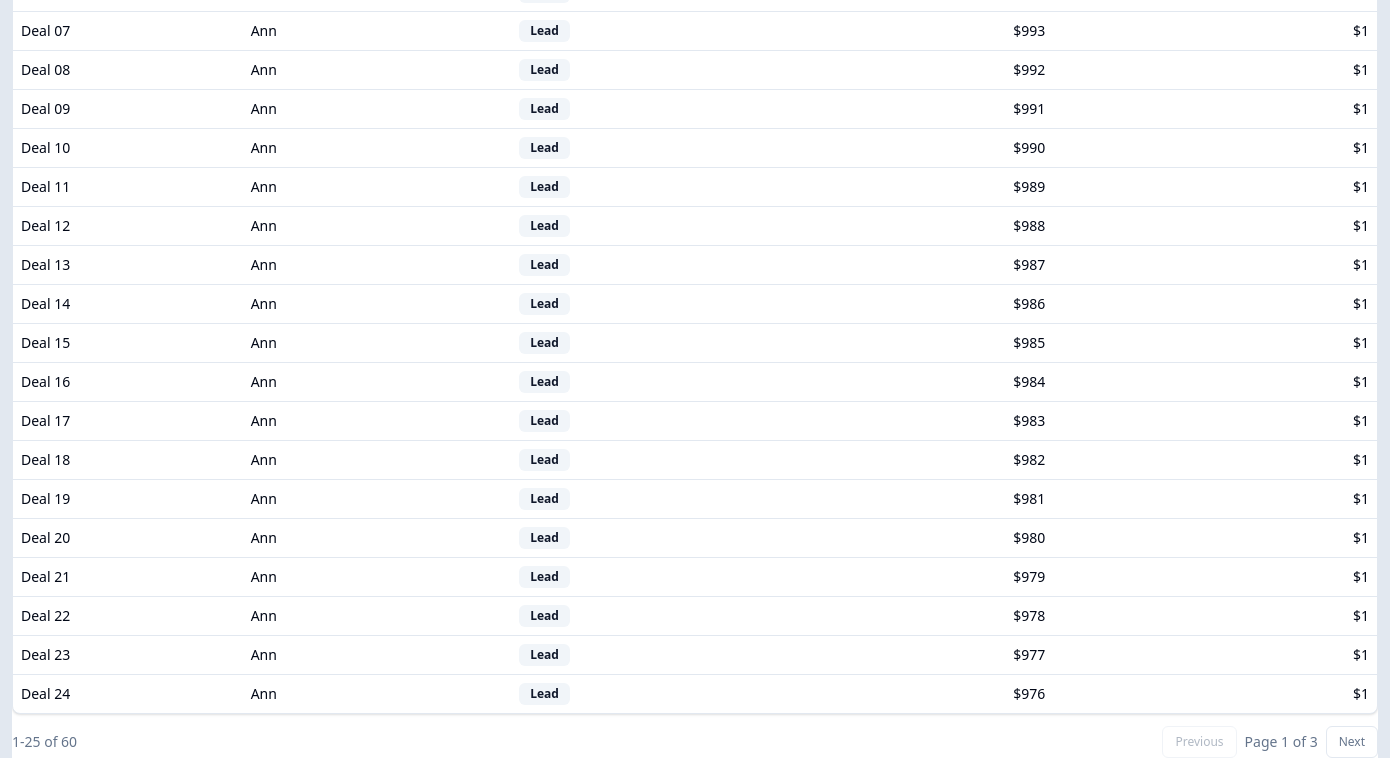
Test: Analyse: open deals › pages through many rows
(page scrolled)
Check: the text "1-25 of 60" is shown, box [12,732,77,752]
What coordinates should you click on to do the following:
click the button "Next"
I would click on:
 (1352, 742)
Its box is [1326,726,1378,757].
(page scrolled)
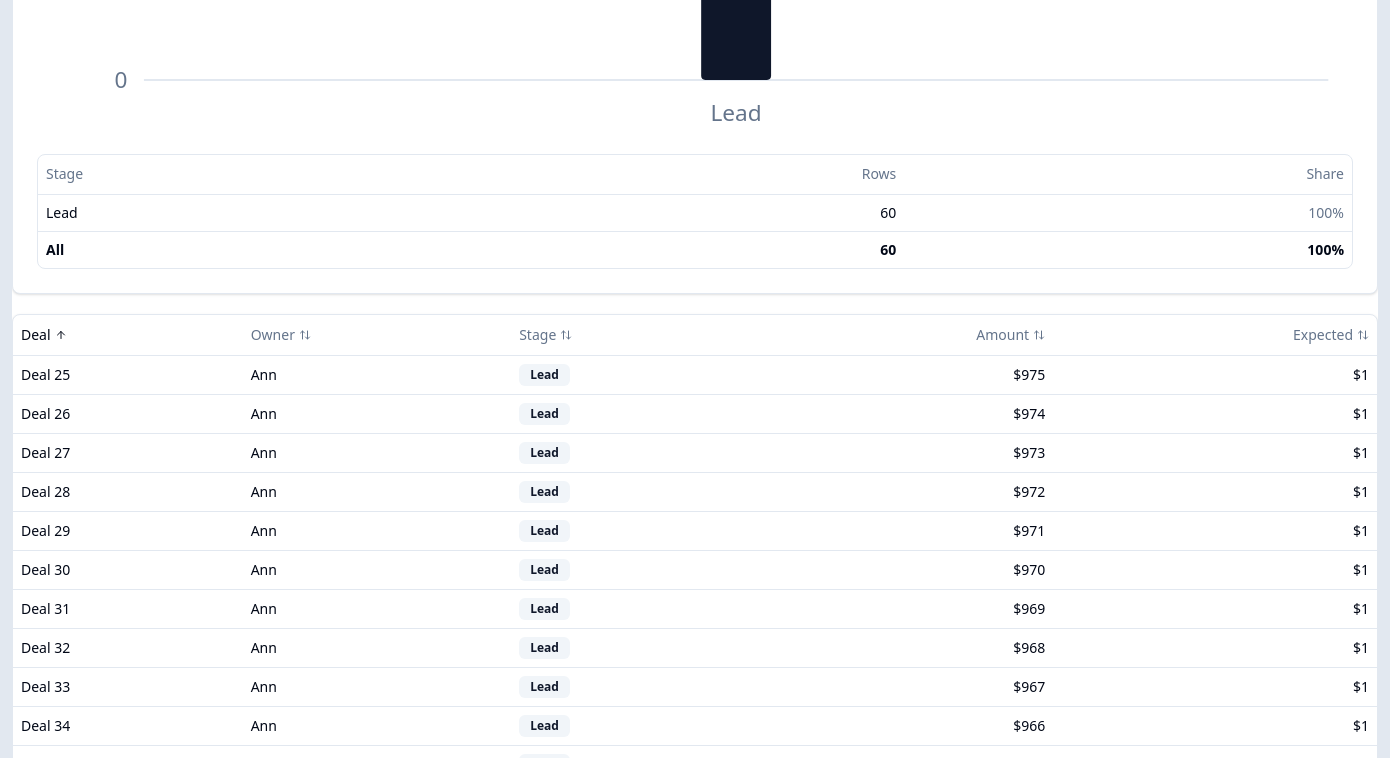
Check: the link "Deal 25" is shown, box [21,364,70,384]
